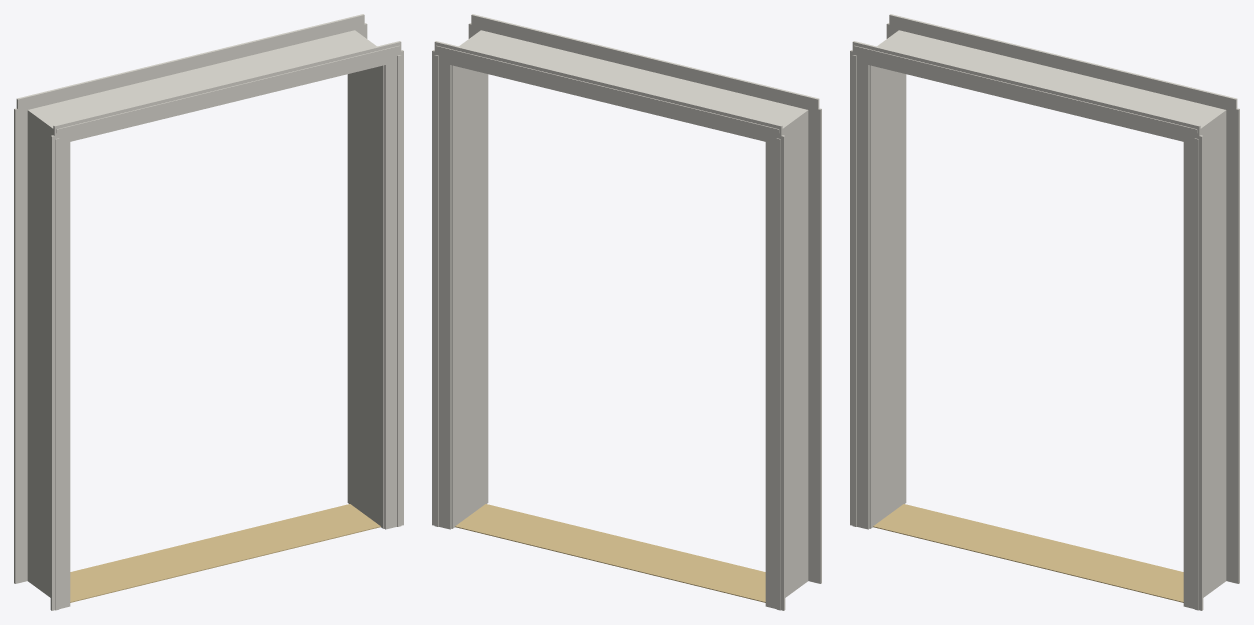
File: frame_swing.glb
3 renders of one model, left to right at view 1: azimuth 30°, elevation 25°; view 2: azimuth 150°, elevation 25°; view 3: azimuth 330°, elevation 25°, orthographic.
Visible parts, largest first — view 1: frame_swing; view 2: frame_swing; view 3: frame_swing.
Boxes of the visible parts, x1,y1,x2,y2 form: frame_swing: (14,14,403,610); frame_swing: (432,14,821,610); frame_swing: (850,14,1239,610).
Bounding box in the file's own units: 1.72 × 2.26 × 0.33.
